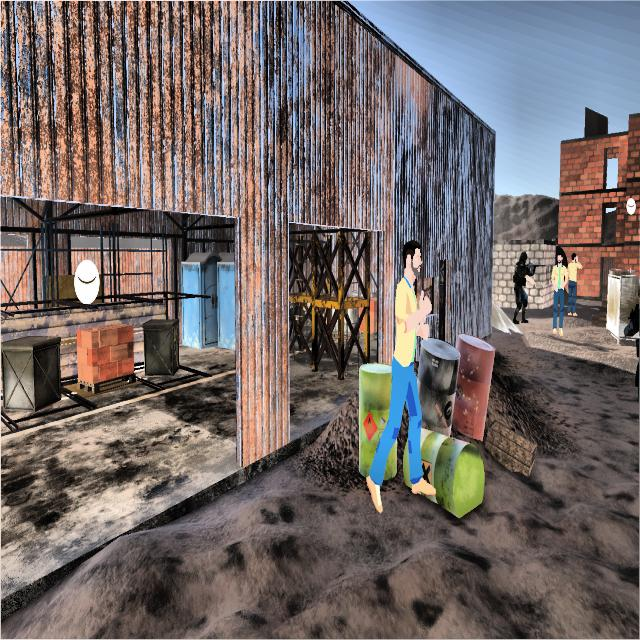bad: (624, 286, 640, 415), (510, 236, 533, 321)
good: (361, 220, 445, 536), (548, 239, 566, 347), (566, 242, 581, 321)
